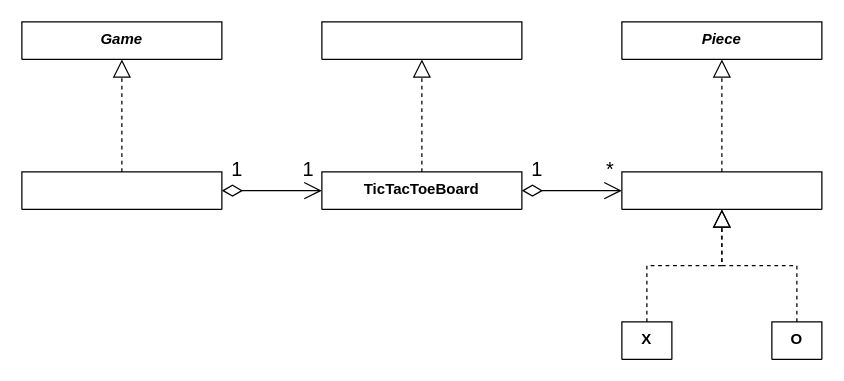
Image size: 844x381. Some labels were removed from this diagram. Each missing label, with the box of its shape:
Board: (321, 21, 522, 59)
TicTacToe: (21, 171, 222, 209)
TicTacToePiece: (621, 171, 822, 209)
